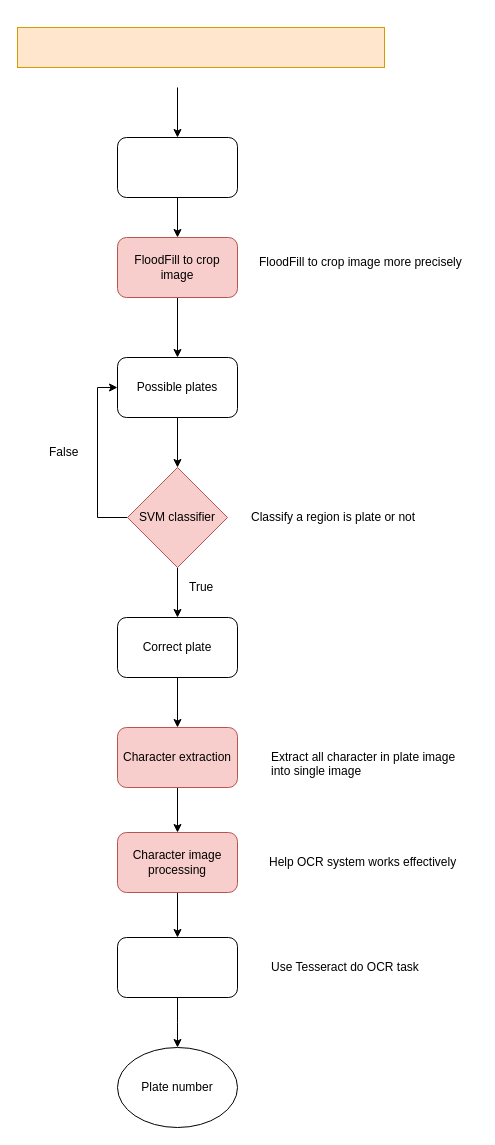
Image size: 495x1145. Some labels were removed from this diagram. Here are the shapes that lost their labels. From the top down, the centre of each, then its label:
At (x=200, y=47): "Qui trình bổ sung và cải tiến".
At (x=177, y=167): "Find minimal area rectangle".
At (x=177, y=967): "Character recognition".
